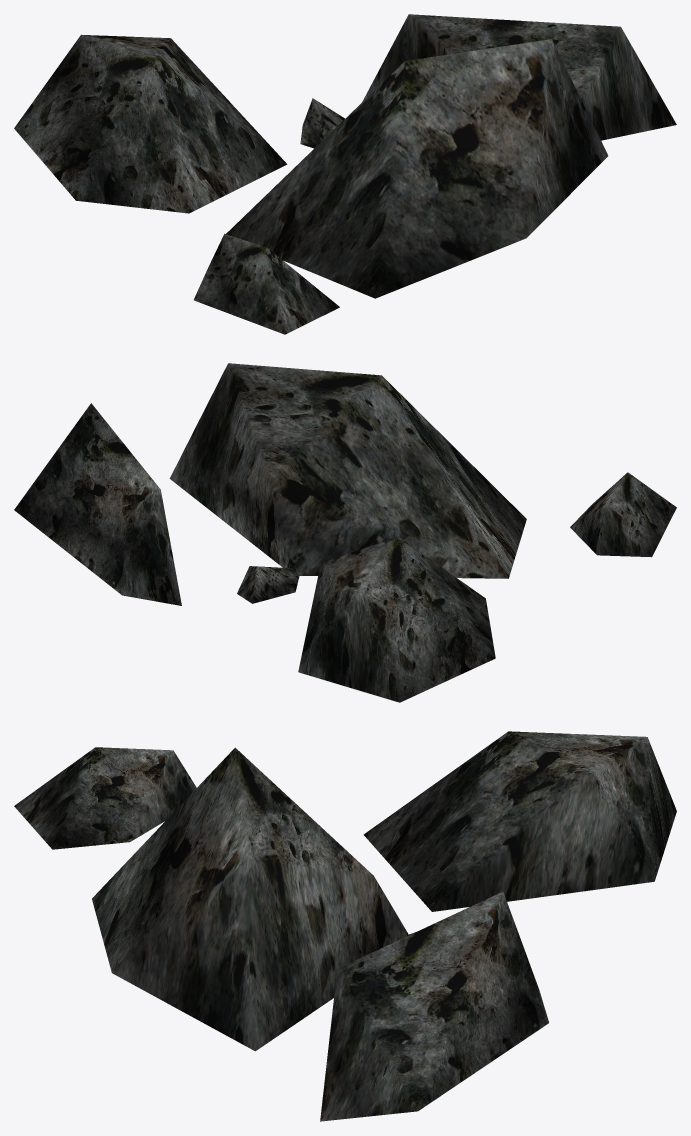
Rendered from rock_scorched_tiny_l2.fbx.
3 renders of one model, top to bottom at view 1: azimuth 30°, elevation 25°; view 2: azimuth 150°, elevation 25°; view 3: azimuth 270°, elevation 25°, orthographic. The views are drawn at different scales.
Parts seen in each view (by area): view 1: mesh_node; view 2: mesh_node; view 3: mesh_node.
Boxes of the visible parts, <box> form: mesh_node: <box>14,14,676,334</box>; mesh_node: <box>14,363,676,702</box>; mesh_node: <box>14,731,676,1121</box>.
Size of the model in its own units: 1.66 by 0.4903 by 1.45.
1 material, 1 textured.
